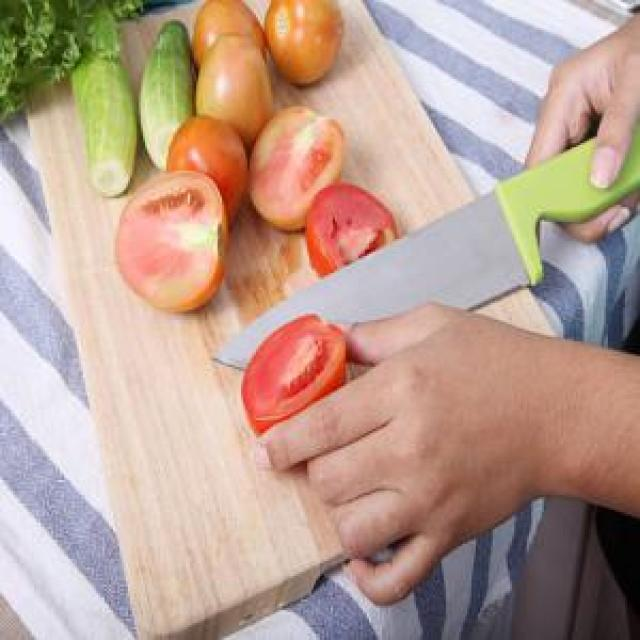knife: (211, 107, 639, 387)
